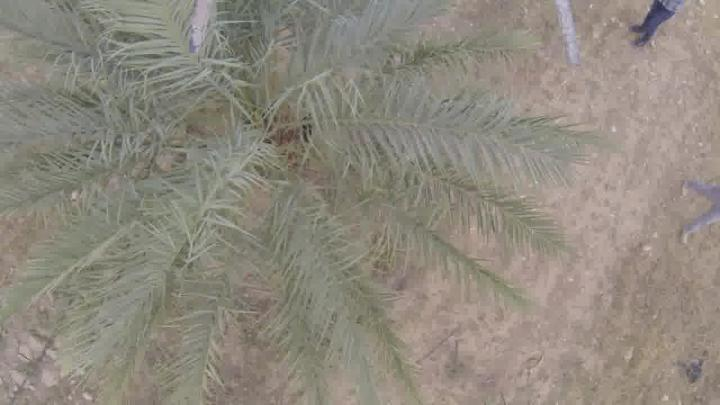Date-Palm-Crown: (59, 0, 410, 310)
